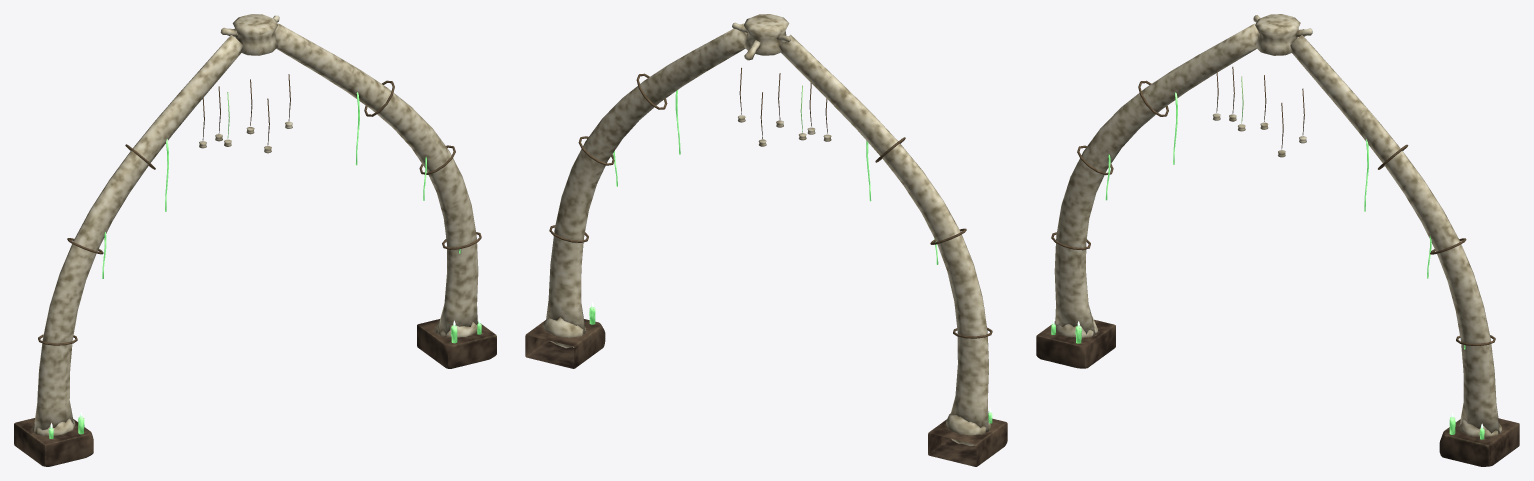
Rendered from Ossuary_RibArch.fbx.
3 renders of one model, left to right at view 1: azimuth 30°, elevation 25°; view 2: azimuth 150°, elevation 25°; view 3: azimuth 330°, elevation 25°, orthographic.
Visible parts, largest first — view 1: Ossuary_RibArch; view 2: Ossuary_RibArch; view 3: Ossuary_RibArch.
Boxes of the visible parts, left/top/right/bottom form: Ossuary_RibArch: left=14, top=14, right=496, bottom=466; Ossuary_RibArch: left=525, top=14, right=1007, bottom=466; Ossuary_RibArch: left=1036, top=14, right=1519, bottom=466.
Size of the model in its own units: 9.1 by 7.31 by 1.24.
